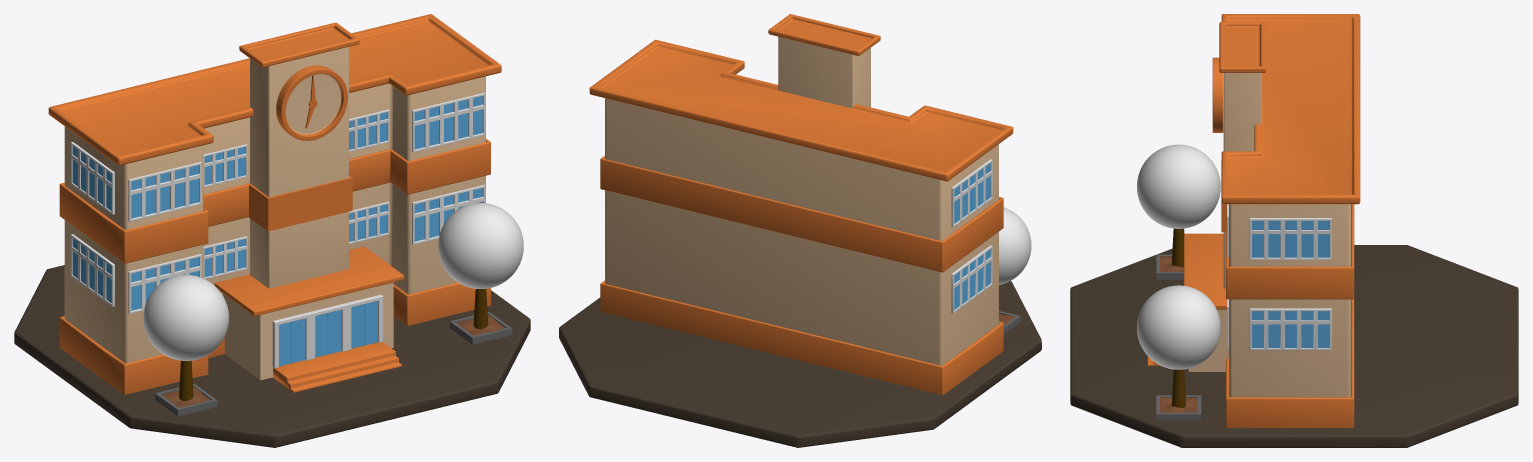
The model's file is school.fbx.
3 views of the same model, side by side, from view 1: azimuth 30°, elevation 25°; view 2: azimuth 150°, elevation 25°; view 3: azimuth 270°, elevation 25° (orthographic). The views are drawn at different scales.
Parts seen in each view (by area): view 1: Cube.049, Cube.151, Cube.155, Cube.150, Cube.148, Cube.163, Cube.158, Sphere.099, Sphere.093, Cube.156, Cube.149, Cube.157 (+14 smaller); view 2: Cube.151, Cube.049, Cube.155, Cube.148, Cube.163, Cube.150, Cube.153, Sphere.093, Cube.161, Cube.162; view 3: Cube.049, Cube.155, Cube.151, Sphere.099, Sphere.093, Cube.148, Cube.163, Cube.162, Cube.161, Cube.150, Cube.156, Cube.153 (+6 smaller).
Part boxes in pixels (<box>): Cube.049: <box>14,265,530,447</box>; Cube.151: <box>64,76,485,363</box>; Cube.155: <box>48,14,501,165</box>; Cube.150: <box>250,46,348,288</box>; Cube.148: <box>59,139,490,263</box>; Cube.163: <box>59,282,490,394</box>; Cube.158: <box>128,92,485,221</box>; Sphere.099: <box>438,203,523,288</box>; Sphere.093: <box>143,275,228,360</box>; Cube.156: <box>214,246,404,316</box>; Cube.149: <box>223,282,393,380</box>; Cube.157: <box>128,185,485,313</box>; Cube.151: <box>605,98,998,365</box>; Cube.049: <box>559,281,1041,447</box>; Cube.155: <box>589,39,1013,181</box>; Cube.148: <box>600,156,1003,272</box>; Cube.163: <box>600,280,1003,395</box>; Cube.150: <box>778,36,870,108</box>; Cube.153: <box>768,14,880,55</box>; Sphere.093: <box>999,207,1031,284</box>; Cube.161: <box>951,159,992,227</box>; Cube.162: <box>951,245,992,313</box>; Cube.049: <box>1070,245,1518,447</box>; Cube.155: <box>1221,14,1360,204</box>; Cube.151: <box>1229,204,1350,397</box>; Sphere.099: <box>1137,285,1220,369</box>; Sphere.093: <box>1137,144,1220,228</box>; Cube.148: <box>1226,204,1354,299</box>; Cube.163: <box>1226,298,1354,427</box>; Cube.162: <box>1249,308,1331,350</box>; Cube.161: <box>1249,218,1331,259</box>; Cube.150: <box>1223,73,1261,288</box>; Cube.156: <box>1184,233,1226,309</box>; Cube.153: <box>1219,22,1265,72</box>.
Bounding box in the file's own units: 737 × 552 × 727.
